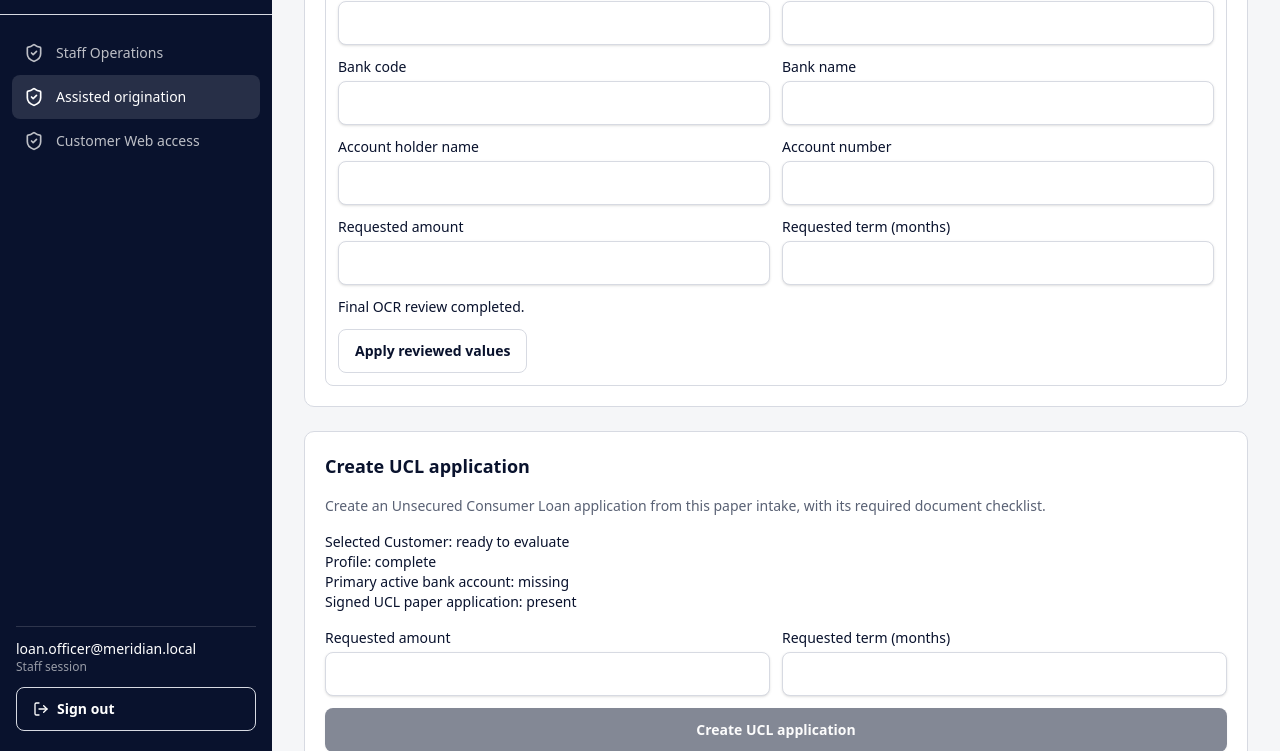
assisted origination pages › does not apply a reviewed OCR name over verified Customer identity
(page scrolled)
Click the button "Apply reviewed values" at (433, 351), box top-left (338, 329), bottom-right (528, 373)
(page scrolled)
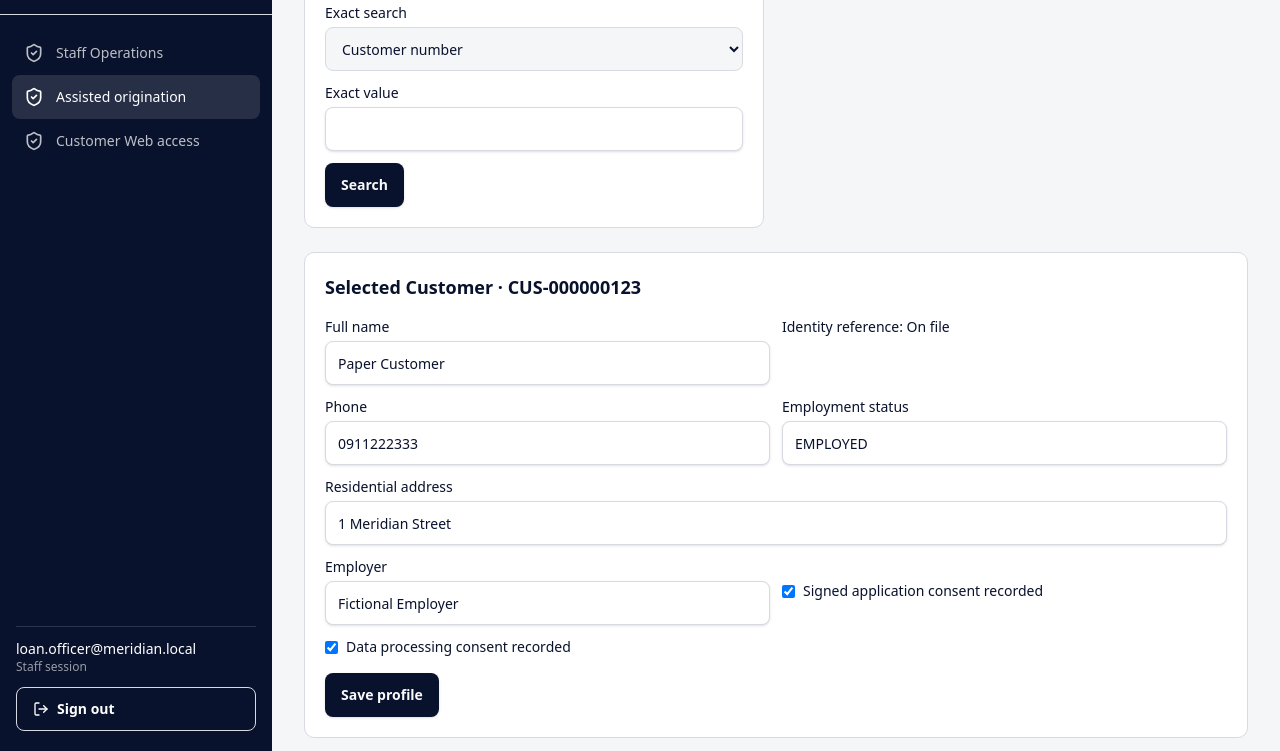
Check: the field labelled "Full name" holds "Paper Customer", box top-left (325, 341), bottom-right (770, 385)
Check: the field labelled "Phone" holds "0911222333", box top-left (325, 421), bottom-right (770, 465)
